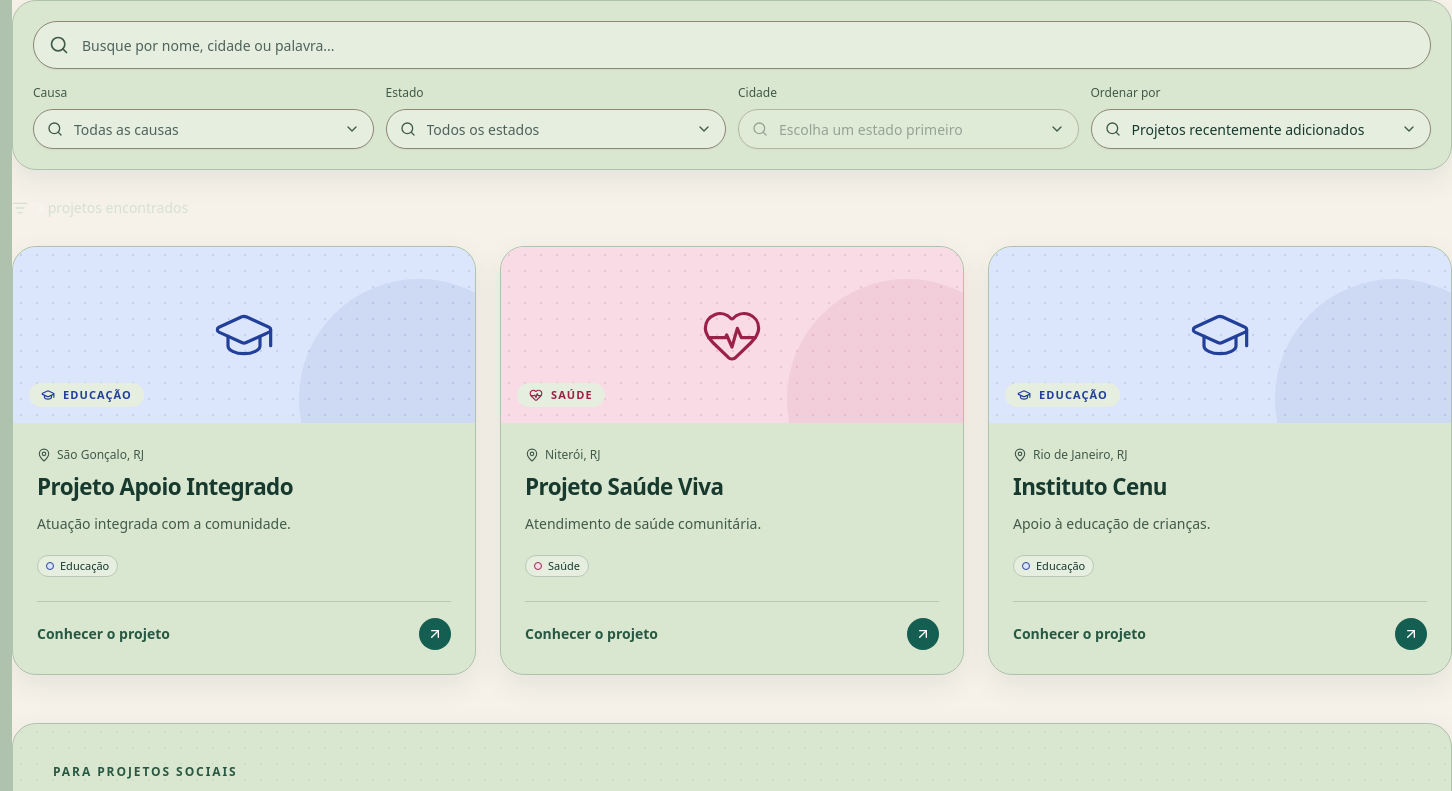
busca de projetos em tempo real › oferece somente as causas compartilhadas com os resultados do quiz
Click the dropdown labelled "Causa": (203, 129) x1=33 y1=109 x2=374 y2=149
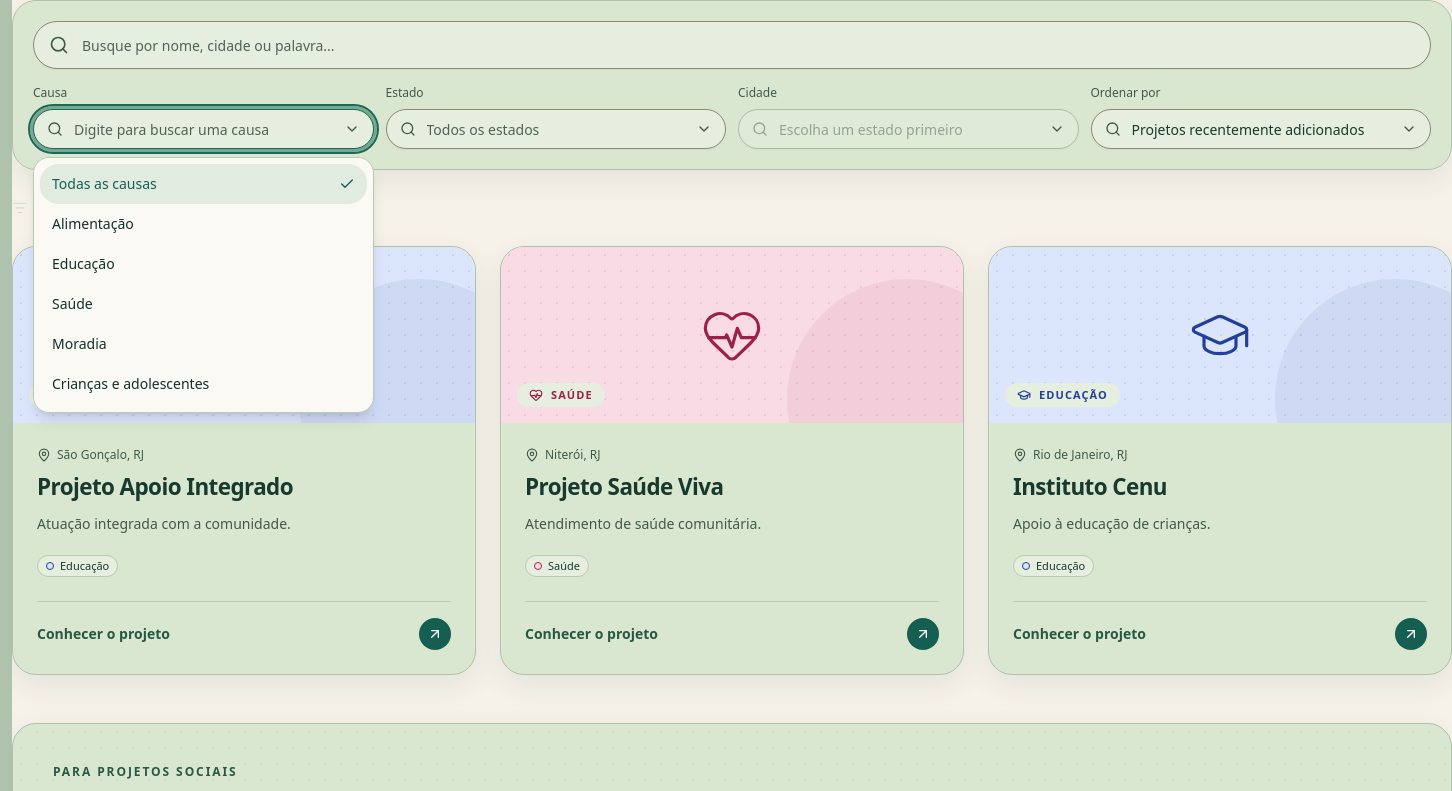
Result: the option "Alimentação" is shown at x1=40 y1=204 x2=366 y2=244
